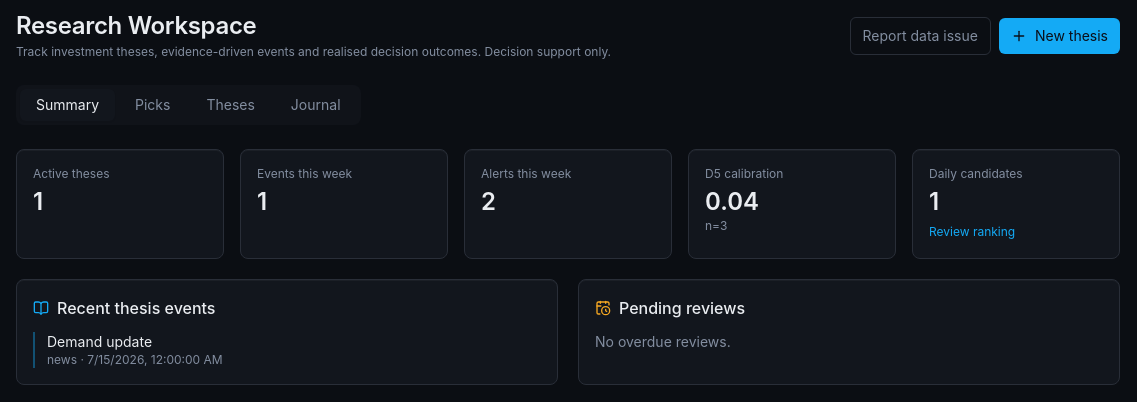
Test: ResearchWorkspacePage › renders weekly summary and D1/D5/D20 journal
Expected: the text "Demand update" is shown, 47,333 -> 152,350
What coordinates should you click on to do the following:
click the button "journal"
I would click on:
 (316, 105)
Its box is 275,89 -> 356,121.
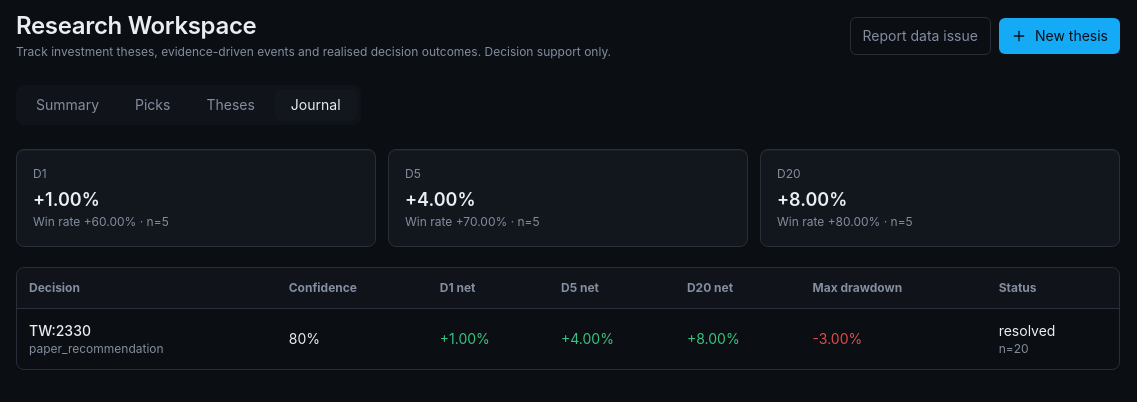
Expected: the text "TW:2330" is shown, 29,322 -> 91,339
Expected: the text "+8.00%" is shown 2 times, 777,189 -> 847,210; 675,308 -> 801,369
